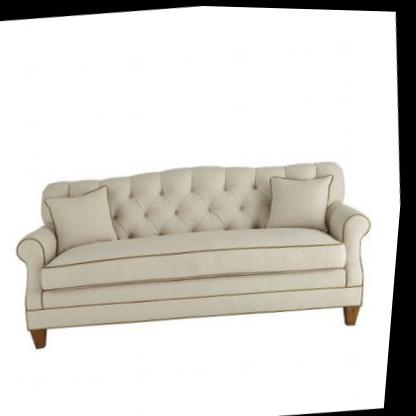Sofa: (7, 142, 388, 358)
